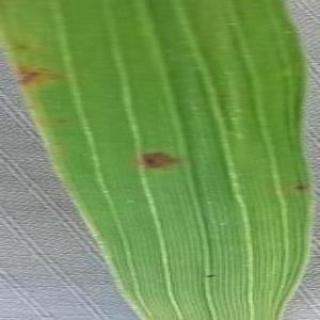bercak-Cokelat: (140, 146, 175, 179)
